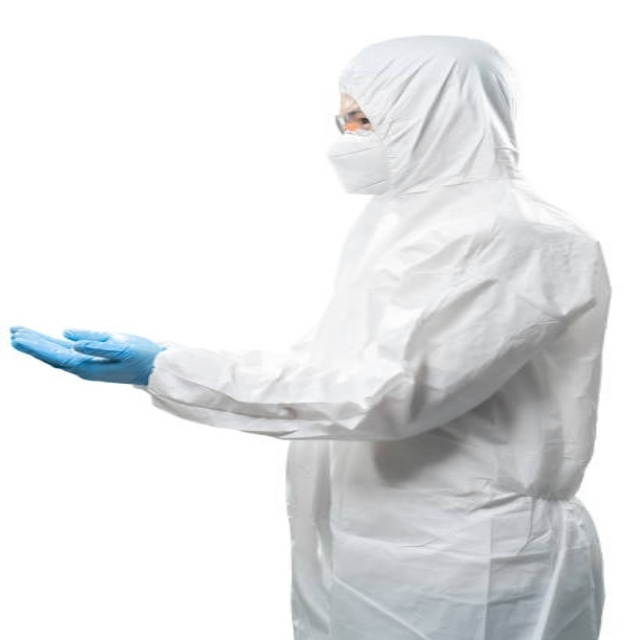Gafas: (335, 112, 372, 135)
Guantes: (12, 326, 166, 386)
Mascara: (327, 132, 396, 194)
